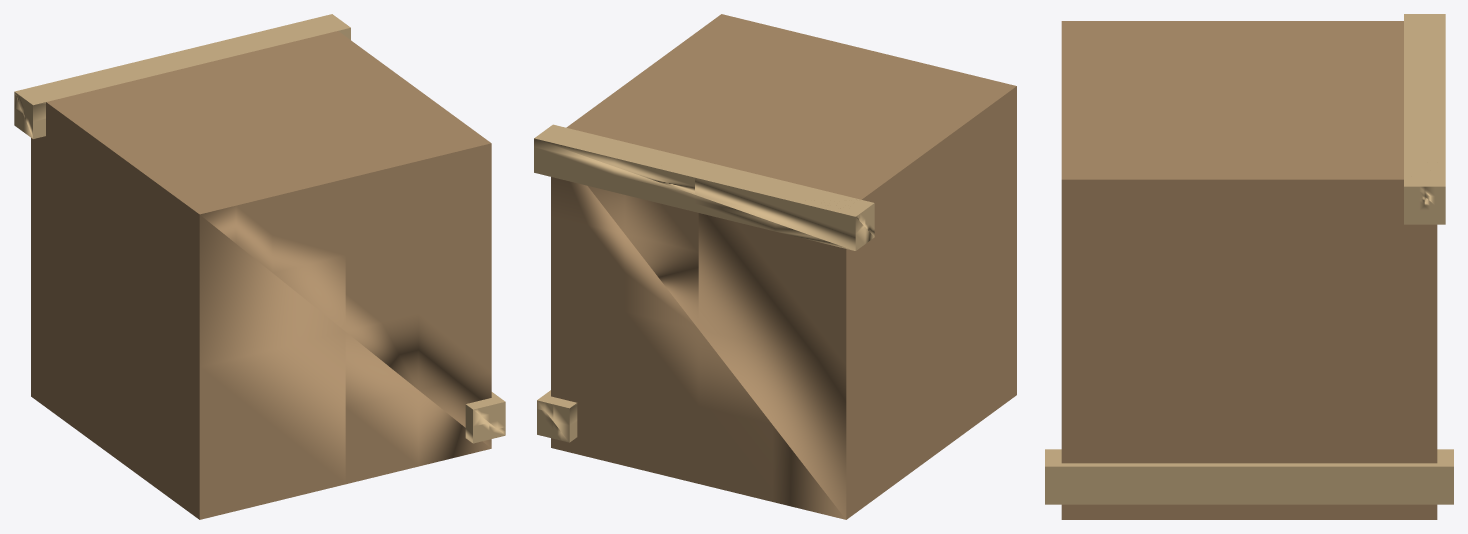
File: crate.glb
The picture shows the model from 3 angles, left to right: view 1: azimuth 30°, elevation 25°; view 2: azimuth 150°, elevation 25°; view 3: azimuth 270°, elevation 25°; orthographic projection. The views are drawn at different scales.
Parts seen in each view (by area): view 1: Crate; view 2: Crate; view 3: Crate.
Part boxes in pixels (<box>): Crate: <box>14,14,505,519</box>; Crate: <box>534,14,1016,519</box>; Crate: <box>1045,14,1453,519</box>.
Bounding box in the file's own units: 0.98 × 0.9 × 0.98.
